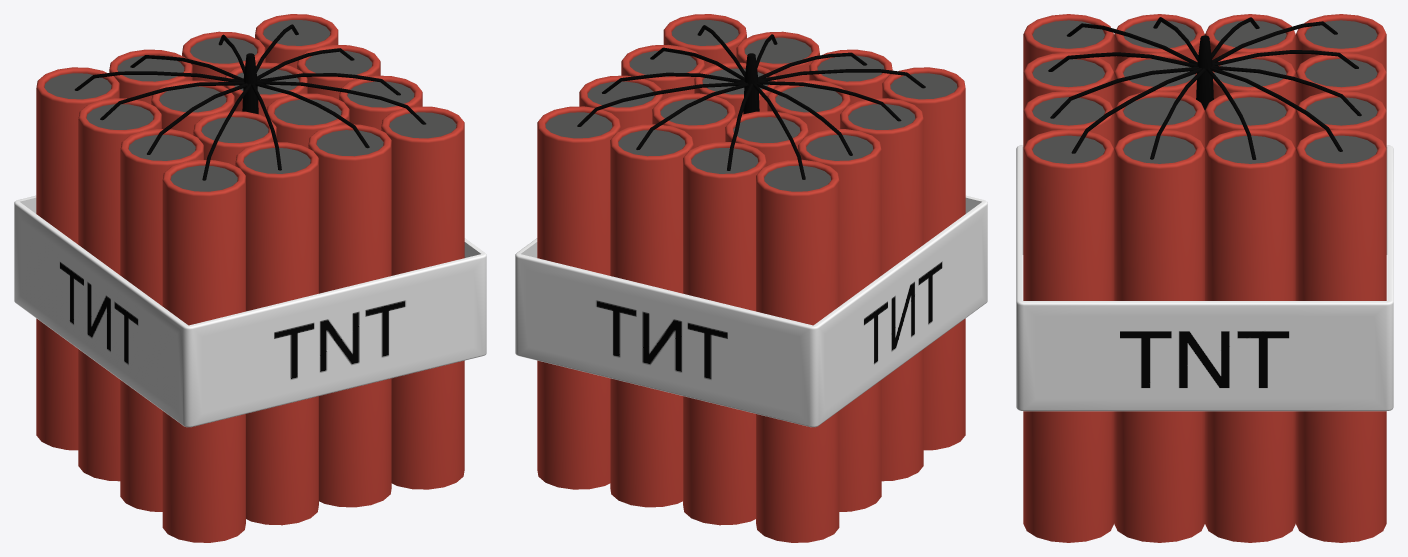
Rendered from TNT.fbx.
The picture shows the model from 3 angles, left to right: view 1: azimuth 30°, elevation 25°; view 2: azimuth 150°, elevation 25°; view 3: azimuth 270°, elevation 25°; orthographic projection. The views are drawn at different scales.
Visible parts, largest first — view 1: TNT; view 2: TNT; view 3: TNT.
Boxes of the visible parts, x1,y1,x2,y2 form: TNT: (14, 14, 486, 542); TNT: (515, 14, 987, 542); TNT: (1016, 14, 1393, 542).
Bounding box in the file's own units: 0.4884 × 0.6123 × 0.4884.
